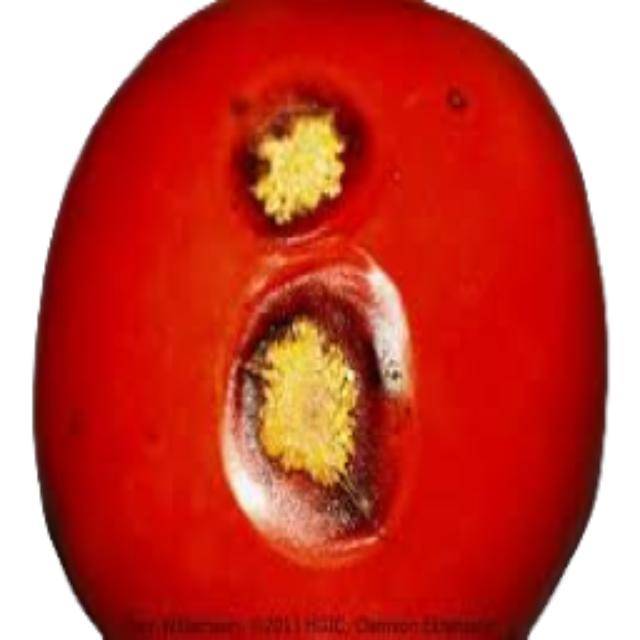defect: (32, 6, 601, 616)
